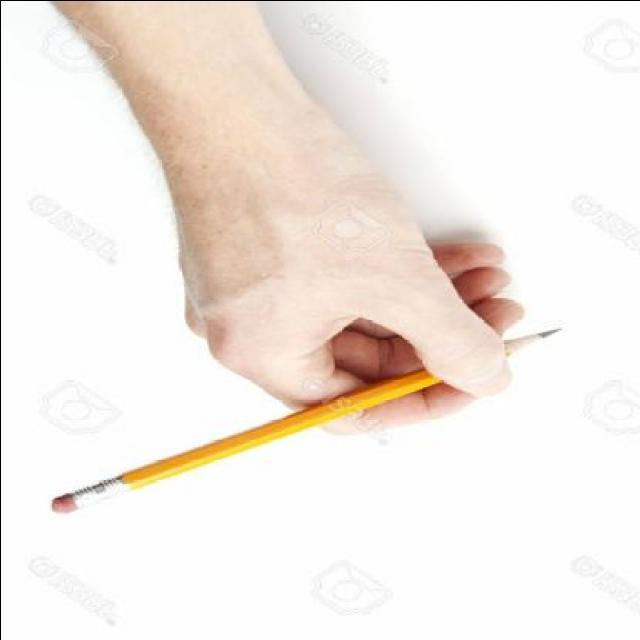pencil: (496, 318, 564, 360)
